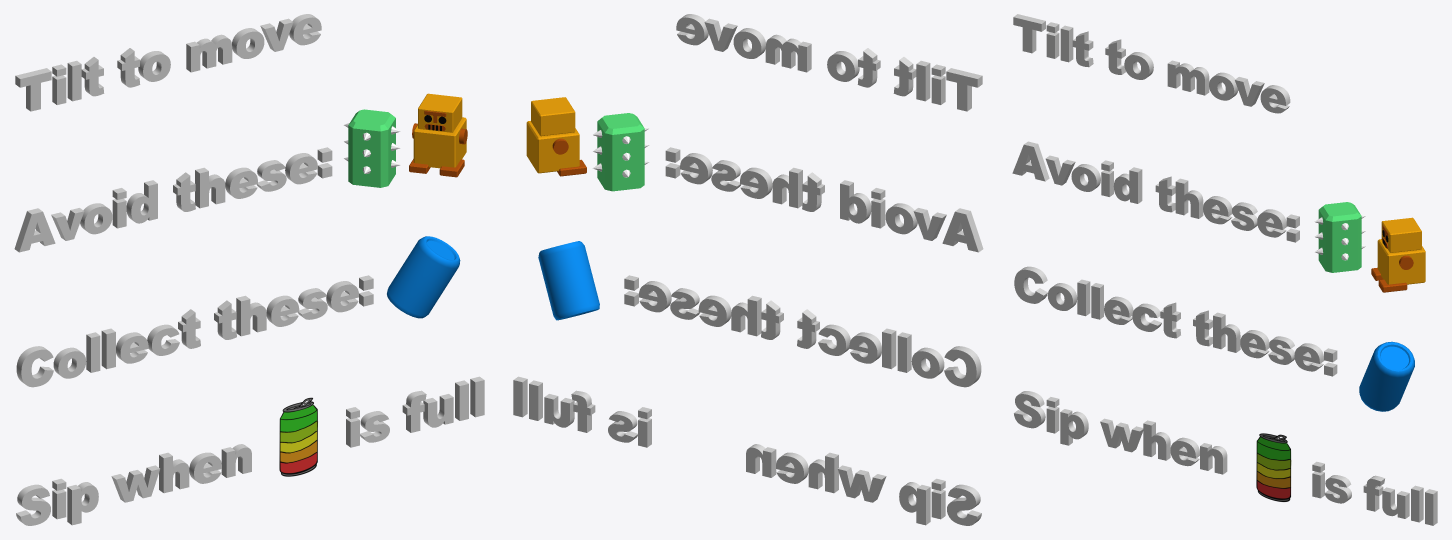
Rendered from tutorial.glb.
The picture shows the model from 3 angles, left to right: view 1: azimuth 30°, elevation 25°; view 2: azimuth 150°, elevation 25°; view 3: azimuth 330°, elevation 25°; orthographic projection. The views are drawn at different scales.
Bounding box in the file's own units: 46.46 × 45.43 × 5.95.
8 materials, 1 textured.
